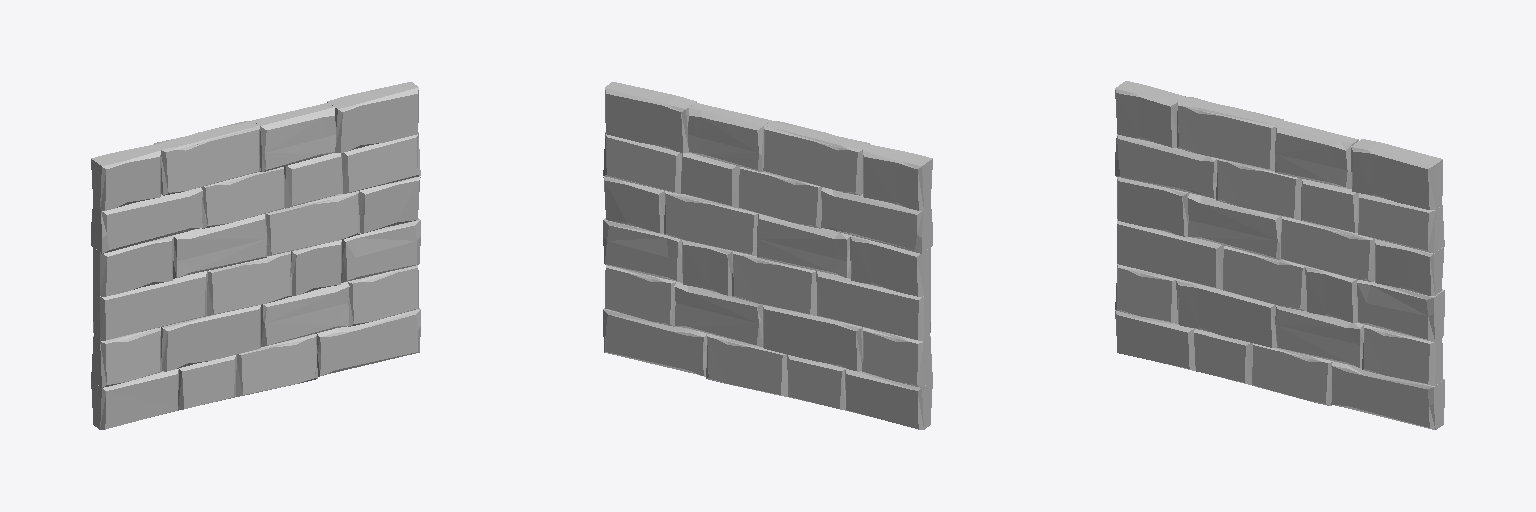
Rendered from L_Wall.obj.
3 views of the same model, side by side, from view 1: azimuth 30°, elevation 25°; view 2: azimuth 150°, elevation 25°; view 3: azimuth 330°, elevation 25° (orthographic).
Visible parts, largest first — view 1: L_Wall; view 2: L_Wall; view 3: L_Wall.
Part boxes in pixels (left/top/right/bottom): L_Wall: left=91, top=82, right=420, bottom=429; L_Wall: left=603, top=82, right=932, bottom=429; L_Wall: left=1115, top=81, right=1444, bottom=429.
Bounding box in the file's own units: 7.62 × 6.05 × 0.5615.